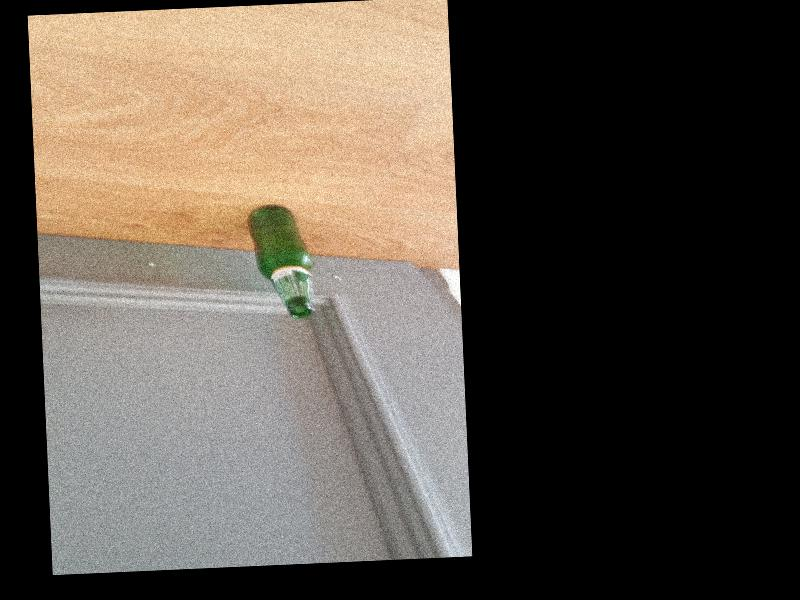Beer: (248, 204, 312, 318)
